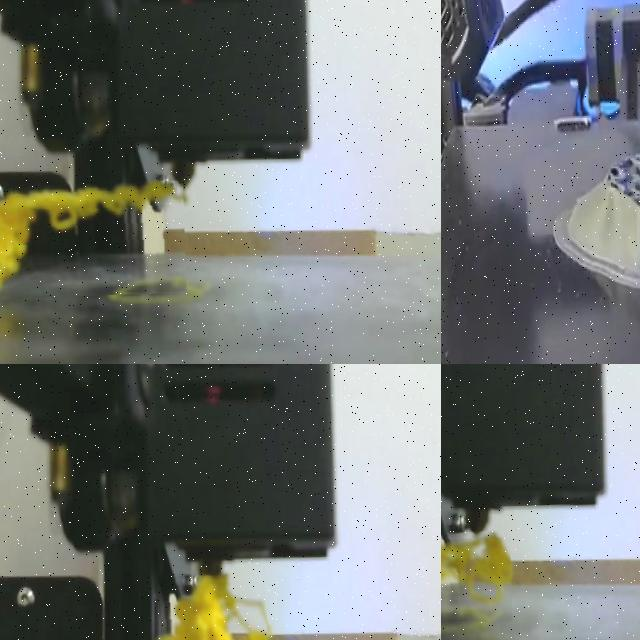spaghetti: (0, 181, 183, 288), (162, 575, 243, 640), (441, 535, 511, 601)
